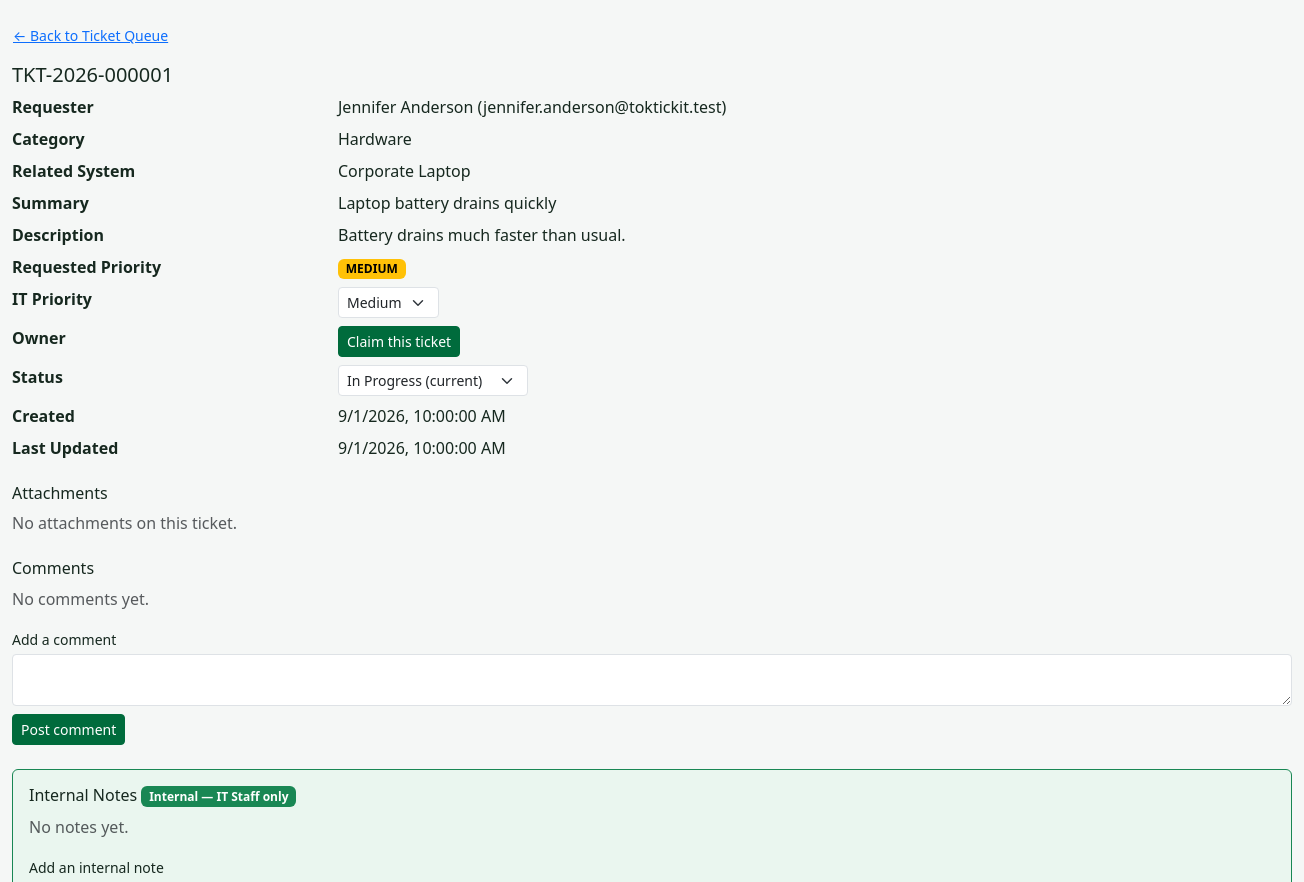
it: StaffTicketDetail › Status control › cancelling the confirm step sends nothing and reverts the select
expect the heading "TKT-2026-000001" is shown: met, box x1=12 y1=61 x2=173 y2=88
Select "Resolved" in the dropdown named "Status" at (433, 381), box x1=338 y1=365 x2=528 y2=396
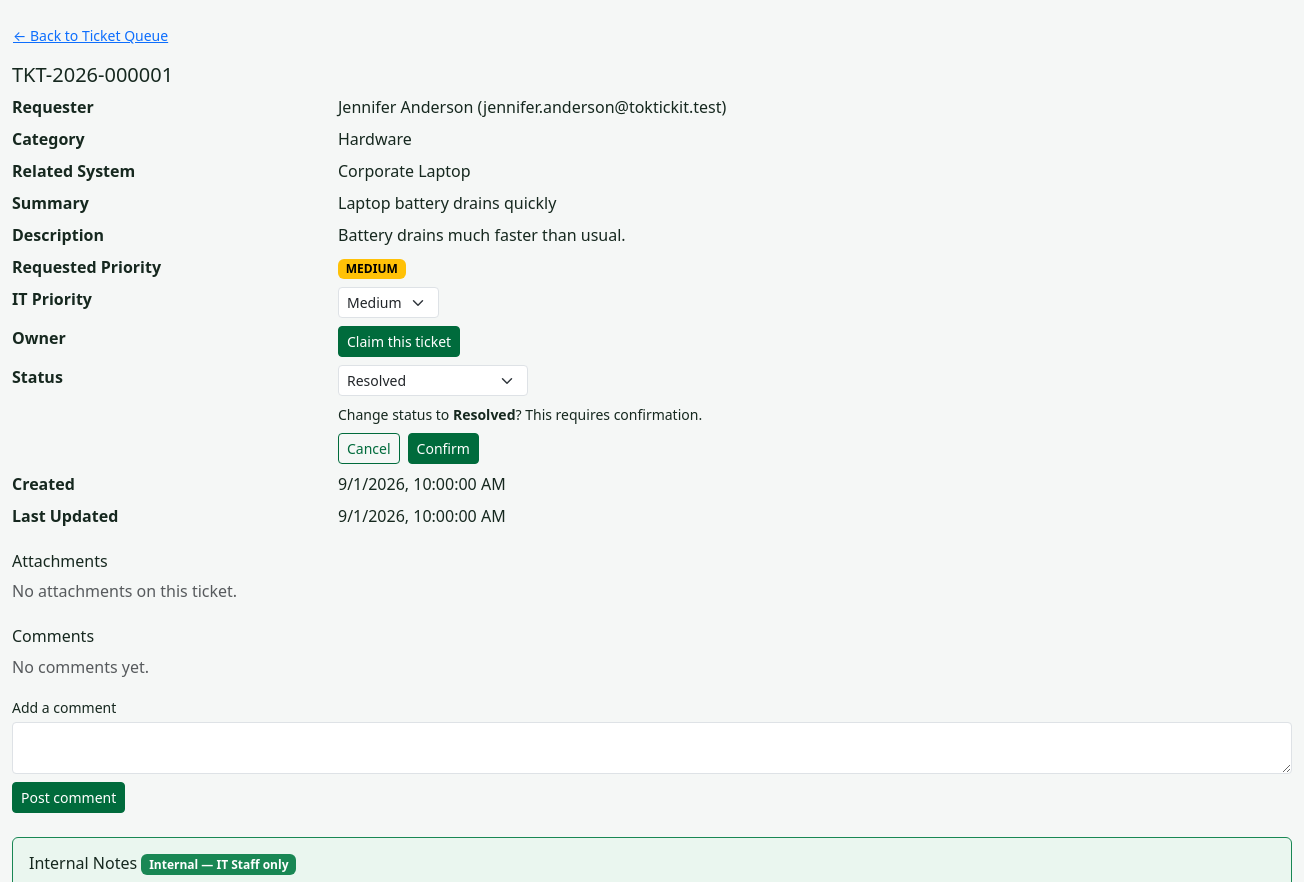
expect the text "Change status to Resolved? This requires confirmation." is shown: met, box x1=338 y1=405 x2=702 y2=424
Click the button "Cancel".
click(369, 449)  # box x1=338 y1=433 x2=400 y2=464
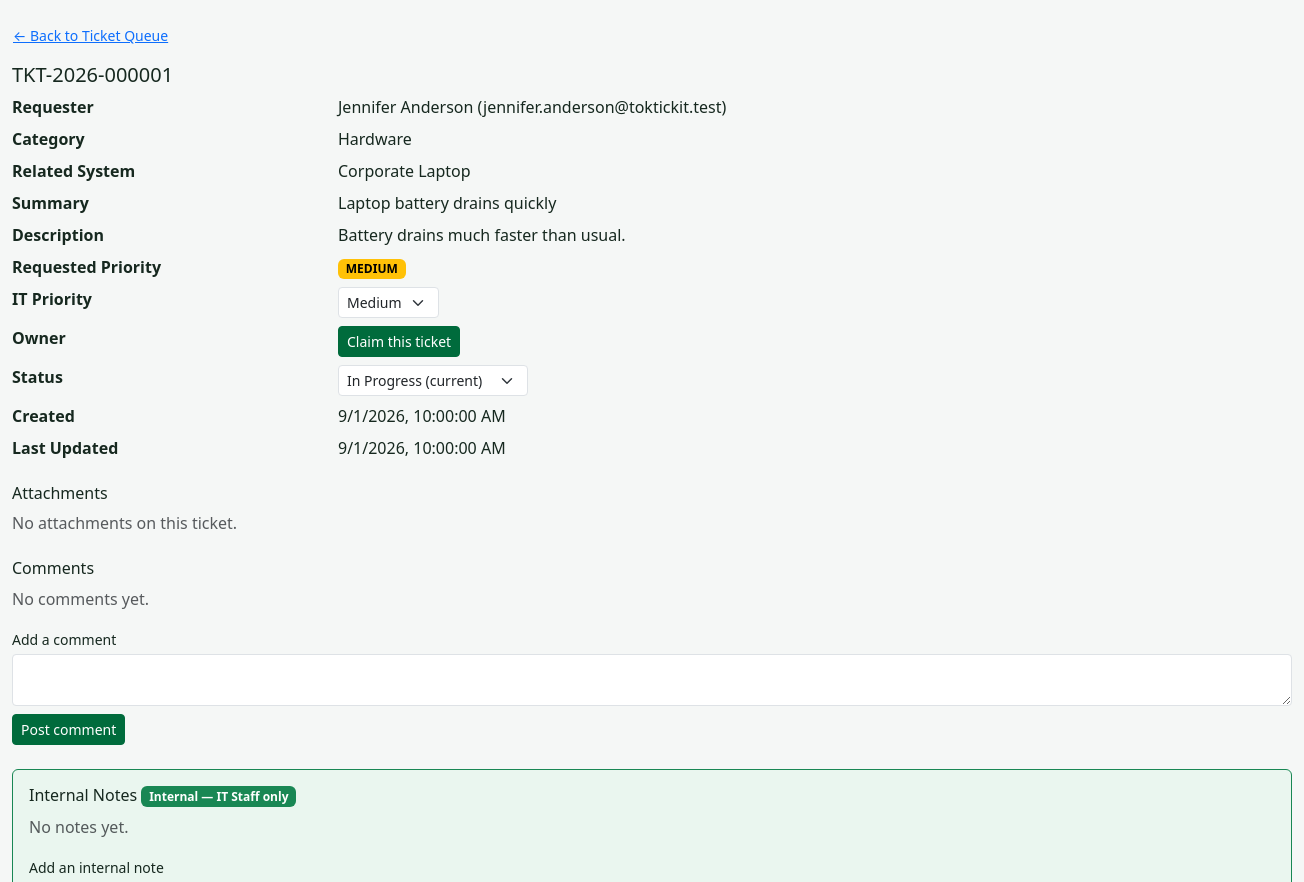
expect the text "requires confirmation" is gone: met
